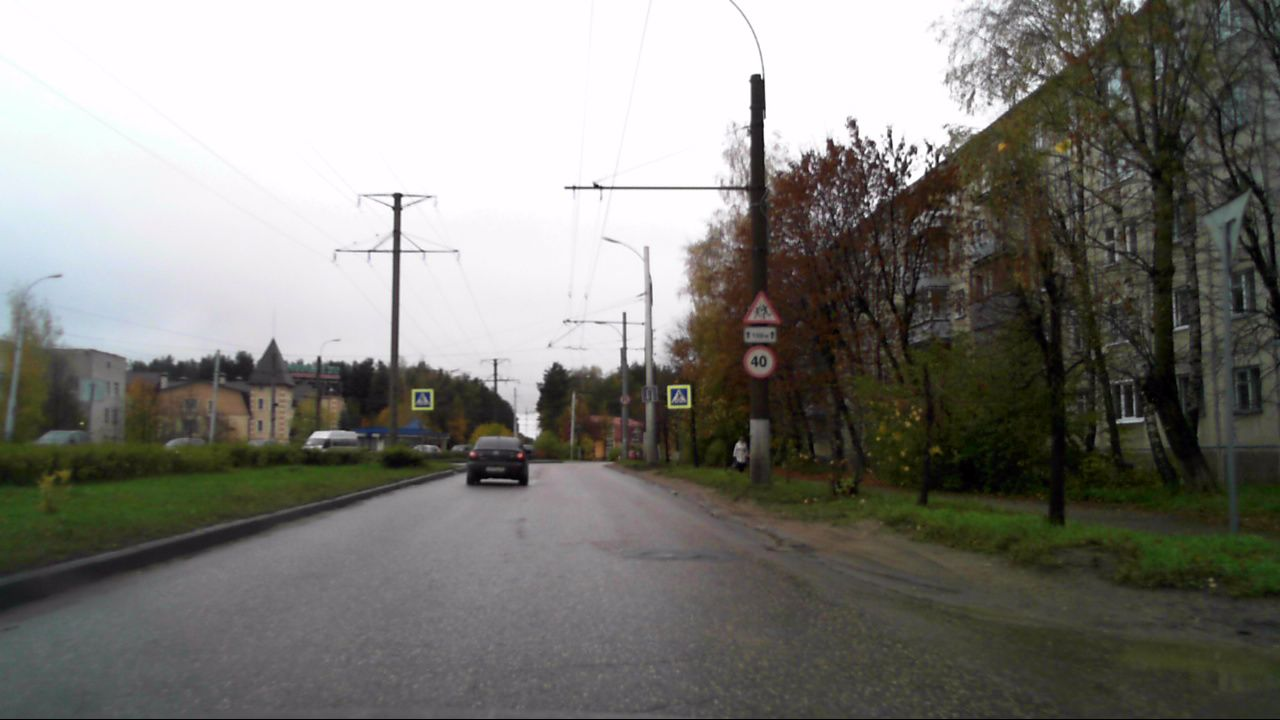speed_warning_40: (743, 345, 776, 377)
